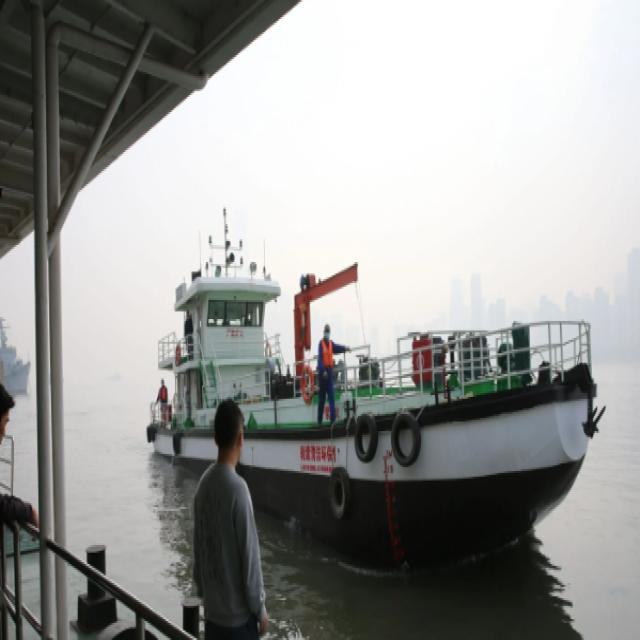fishing boat: (136, 235, 613, 579)
